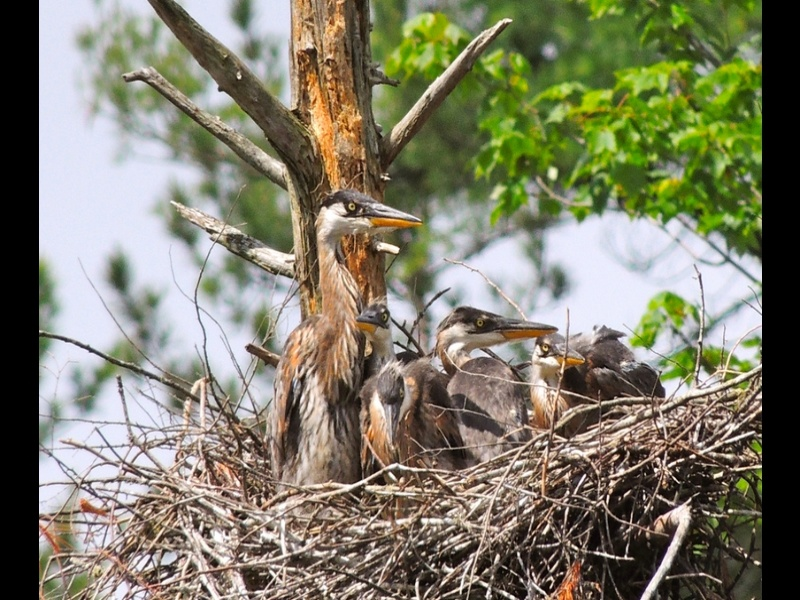heron: (266, 191, 423, 489), (371, 304, 562, 467)
